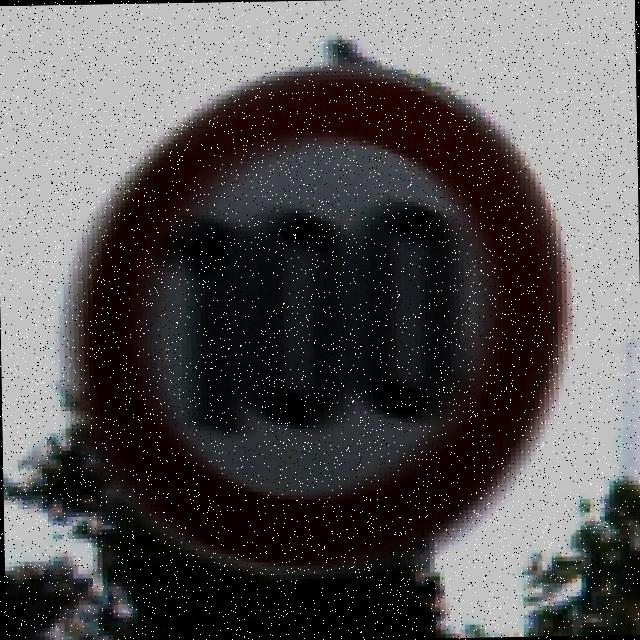Ograniczenie predkosci do 100: (69, 64, 568, 572)
